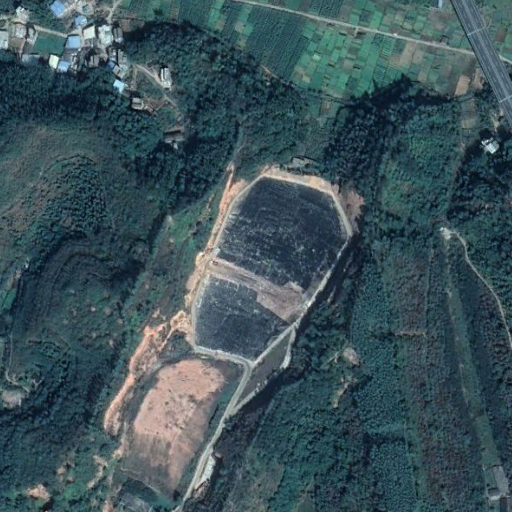lf: (187, 175, 347, 363)
